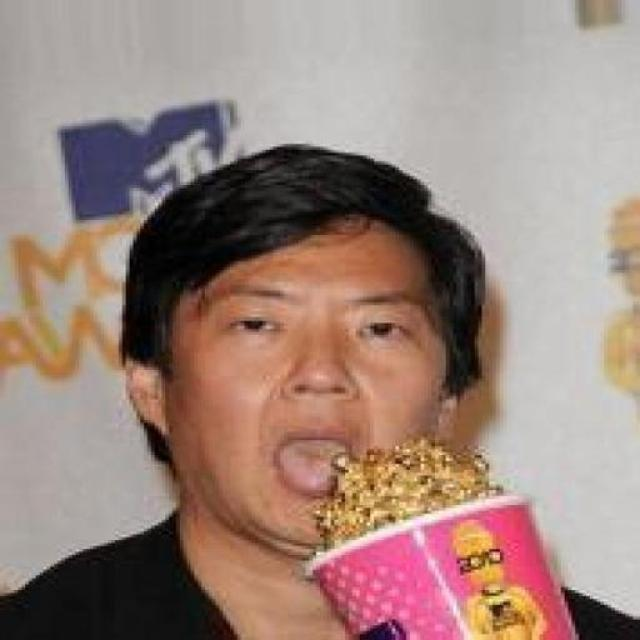bareface: (158, 169, 442, 541)
